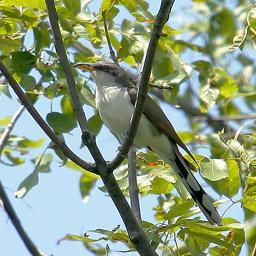Cuckoo: (72, 59, 224, 227)
